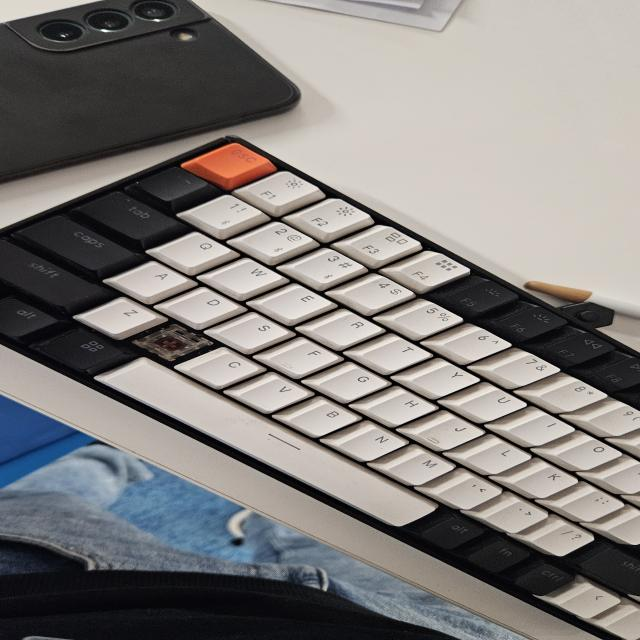C: (148, 334, 197, 356)
